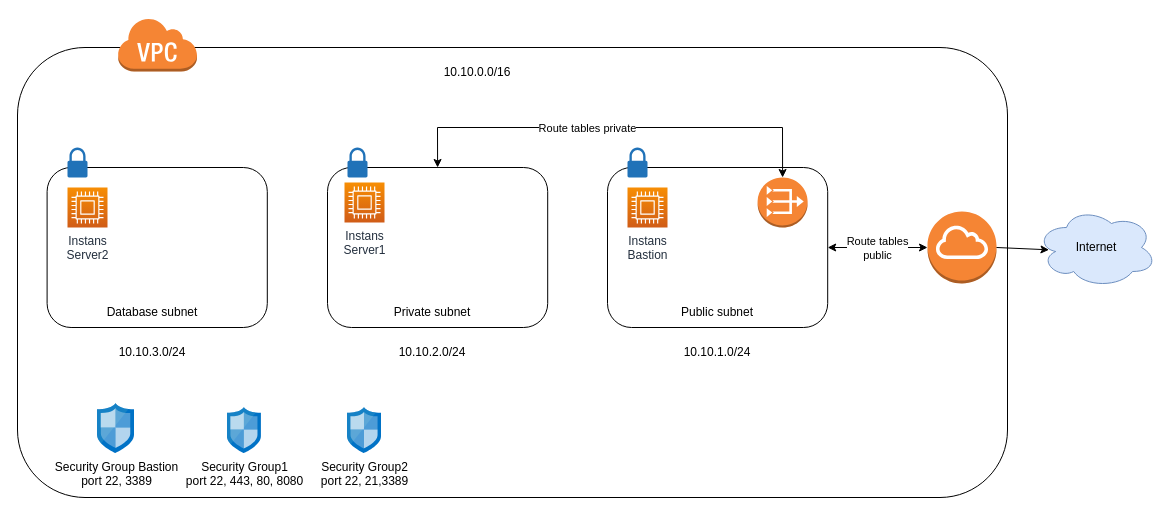
The diagram is 1174 pixels wide and 515 high, and some of its shapes have lost their labels. The box of each missing label's shape, as (x1, y1, x2, y2) in pixels:
Internet GateWay: (926, 210, 996, 284)
NAT GateWay: (757, 176, 808, 228)
